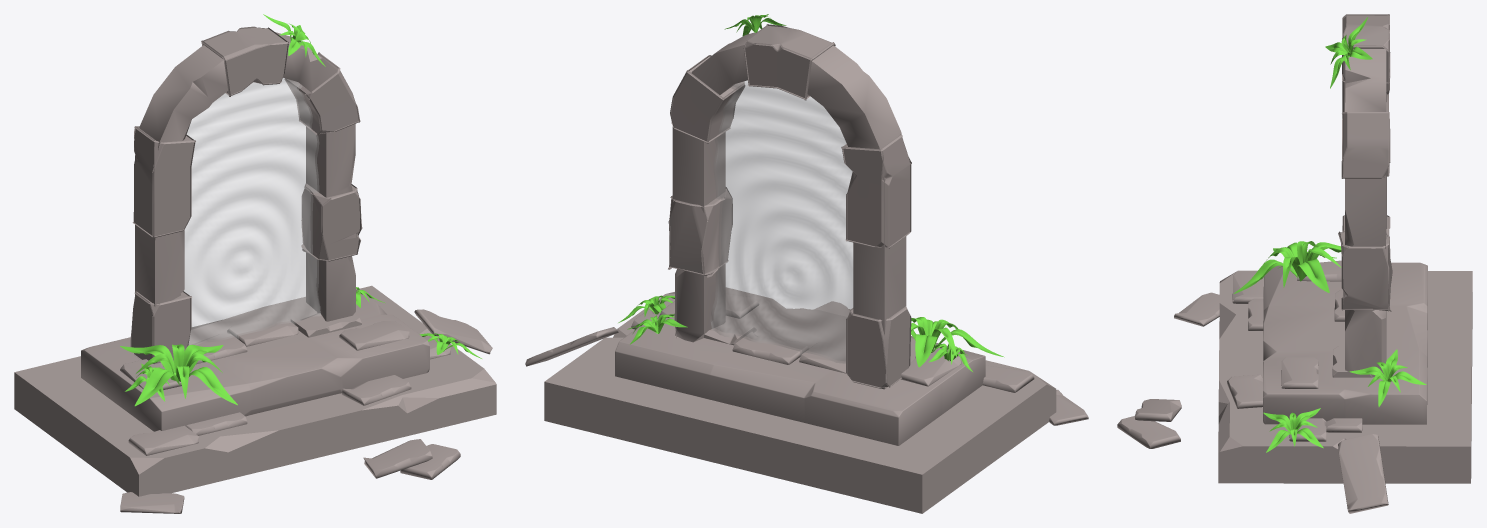
File: portal.glb
3 renders of one model, left to right at view 1: azimuth 30°, elevation 25°; view 2: azimuth 150°, elevation 25°; view 3: azimuth 270°, elevation 25°, orthographic. The views are drawn at different scales.
Parts seen in each view (by area): view 1: Plane_006, Plane, Plane_005, Plane_003, Plane_002, Plane_008.001, Cube.018, Cube.020, Cube.024, Cube.026, Cube.017, Cube.023 (+7 smaller); view 2: Plane, Plane_006, Plane_005, Plane_003, Plane_002, Plane_008.001, Cube.024, Cube.022, Cube.025, Cube.017, Cube.020, Cube_001 (+2 smaller); view 3: Plane, Plane_005, Plane_003, Plane_002, Cube.020, Plane_008.001, Cube.019, Cube.026, Plane_008.003, Plane_008.004, Cube.015, Cube.023 (+8 smaller).
Boxes of the visible parts, x1=… form: Plane_006: x1=184, y1=78, x2=320, y2=345; Plane: x1=14, y1=285, x2=496, y2=496; Plane_005: x1=81, y1=289, x2=429, y2=431; Plane_003: x1=130, y1=26, x2=362, y2=366; Plane_002: x1=135, y1=32, x2=355, y2=321; Plane_008.001: x1=120, y1=344, x2=237, y2=406; Cube.018: x1=363, y1=439, x2=432, y2=478; Cube.020: x1=414, y1=309, x2=492, y2=354; Cube.024: x1=227, y1=316, x2=298, y2=346; Cube.026: x1=339, y1=321, x2=409, y2=350; Cube.017: x1=128, y1=425, x2=198, y2=455; Cube.023: x1=120, y1=492, x2=184, y2=513; Plane: x1=544, y1=292, x2=1056, y2=513; Plane_006: x1=711, y1=80, x2=852, y2=363; Plane_005: x1=615, y1=287, x2=985, y2=445; Plane_003: x1=668, y1=24, x2=911, y2=388; Plane_002: x1=672, y1=31, x2=906, y2=389; Plane_008.001: x1=911, y1=317, x2=1004, y2=367; Cube.024: x1=732, y1=331, x2=808, y2=364; Cube.022: x1=901, y1=349, x2=961, y2=386; Cube.025: x1=799, y1=342, x2=846, y2=373; Cube.017: x1=982, y1=365, x2=1034, y2=392; Cube.020: x1=525, y1=327, x2=618, y2=366; Cube_001: x1=704, y1=319, x2=756, y2=345; Plane: x1=1218, y1=270, x2=1472, y2=483; Plane_005: x1=1263, y1=262, x2=1427, y2=424; Plane_003: x1=1338, y1=14, x2=1392, y2=311; Plane_002: x1=1345, y1=49, x2=1386, y2=377; Cube.020: x1=1338, y1=434, x2=1388, y2=513; Plane_008.001: x1=1233, y1=241, x2=1341, y2=293; Cube.019: x1=1117, y1=416, x2=1180, y2=448; Cube.026: x1=1281, y1=357, x2=1318, y2=388; Plane_008.003: x1=1349, y1=349, x2=1426, y2=406; Plane_008.004: x1=1263, y1=408, x2=1323, y2=452; Cube.015: x1=1227, y1=374, x2=1262, y2=408; Cube.023: x1=1174, y1=292, x2=1219, y2=326.
Bounding box in the file's own units: 6.28 × 5.24 × 4.33.
